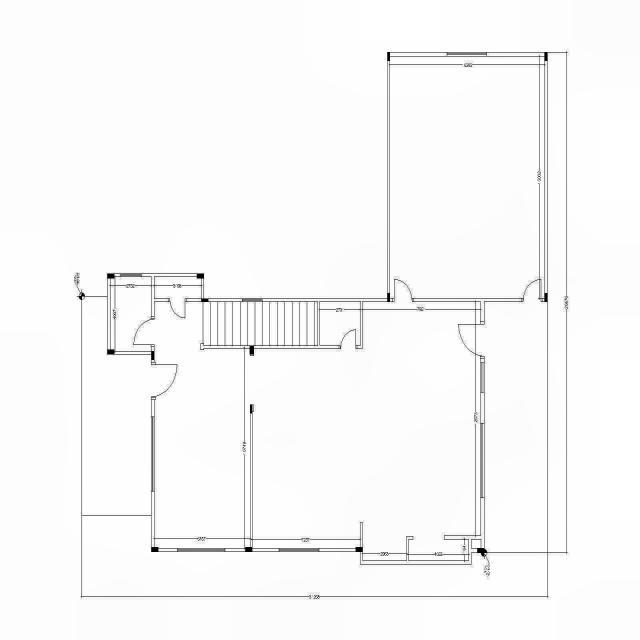Column: (477, 548, 485, 553), (544, 52, 548, 61), (544, 293, 548, 302), (245, 547, 252, 552), (250, 346, 254, 354), (356, 547, 362, 552), (152, 547, 158, 552), (197, 274, 204, 278), (387, 52, 390, 61), (387, 293, 390, 302), (108, 350, 114, 354), (202, 298, 208, 302), (108, 274, 114, 278), (250, 404, 252, 414), (152, 351, 154, 360)
Door: (457, 320, 485, 360), (150, 361, 178, 401), (132, 316, 156, 348), (520, 278, 543, 303), (392, 278, 414, 303), (168, 298, 188, 320), (338, 328, 358, 349)
Staircase: (200, 300, 319, 348)
Window: (150, 415, 156, 493), (480, 422, 486, 499), (278, 546, 320, 554), (176, 547, 226, 553), (447, 52, 488, 58), (480, 362, 486, 394), (120, 273, 142, 278), (241, 298, 263, 302)
